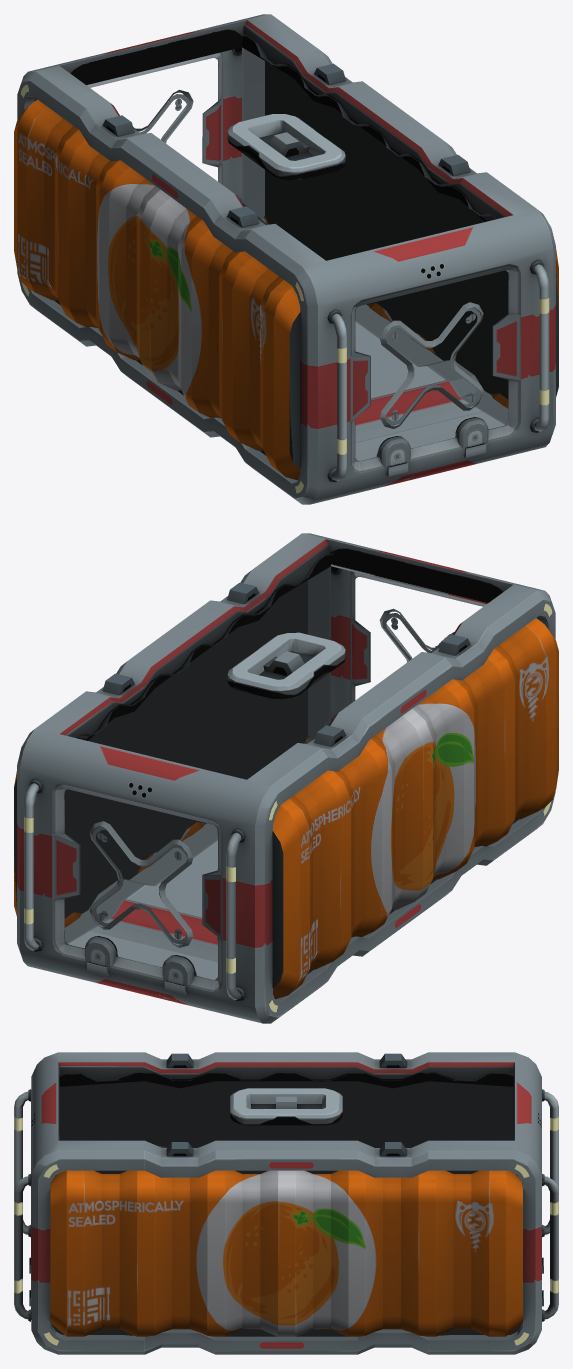
File: env_building_container_lod1.fbx
3 renders of one model, top to bottom at view 1: azimuth 30°, elevation 25°; view 2: azimuth 150°, elevation 25°; view 3: azimuth 270°, elevation 25°, orthographic. The views are drawn at different scales.
Visible parts, largest first — view 1: polySurface733; view 2: polySurface733; view 3: polySurface733.
Part boxes in pixels (box(x1,y1,x2,y2)): polySurface733: box(14, 14, 558, 504); polySurface733: box(14, 533, 558, 1023); polySurface733: box(14, 1052, 558, 1354).
Bounding box in the file's own units: 19.98 × 16.24 × 38.94.
